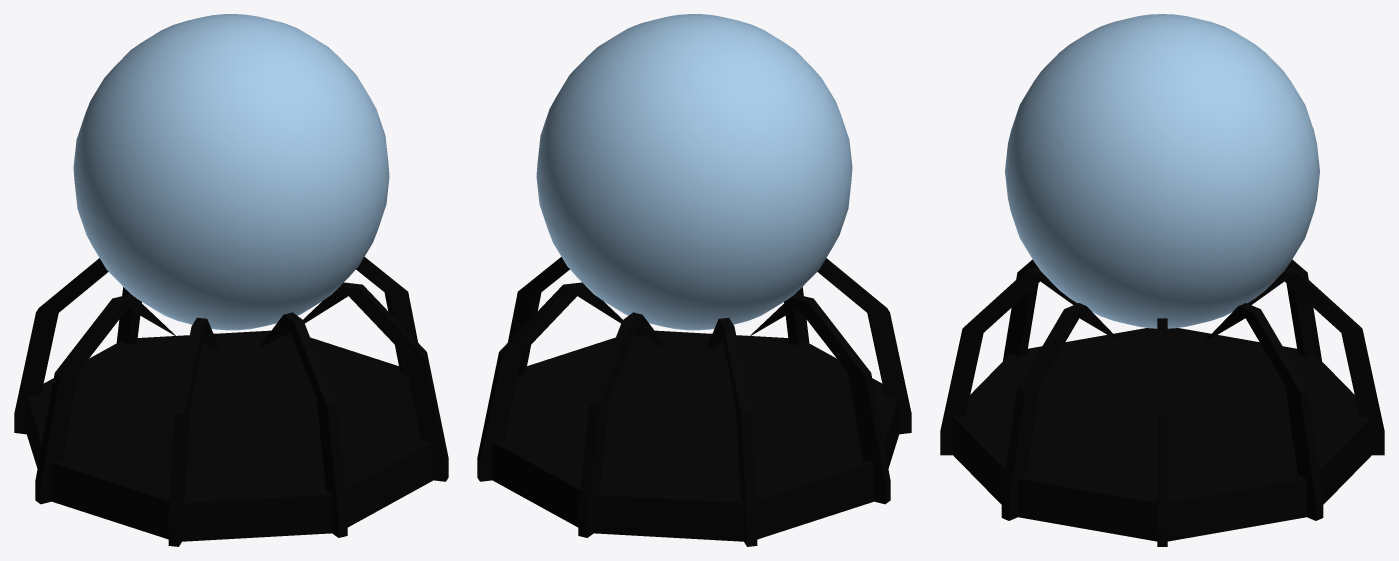
File: FirstTower.fbx
The picture shows the model from 3 angles, left to right: view 1: azimuth 30°, elevation 25°; view 2: azimuth 150°, elevation 25°; view 3: azimuth 270°, elevation 25°; orthographic projection.
Parts seen in each view (by area): view 1: Cube.007, Sphere; view 2: Cube.007, Sphere; view 3: Cube.007, Sphere.
Part boxes in pixels (x1,y1,x2,y2): Cube.007: (14,257,448,546); Sphere: (73,14,389,330); Cube.007: (477,257,911,546); Sphere: (536,14,852,330); Cube.007: (940,259,1384,546); Sphere: (1005,14,1319,328).
Size of the model in its own units: 420 by 442 by 420.
